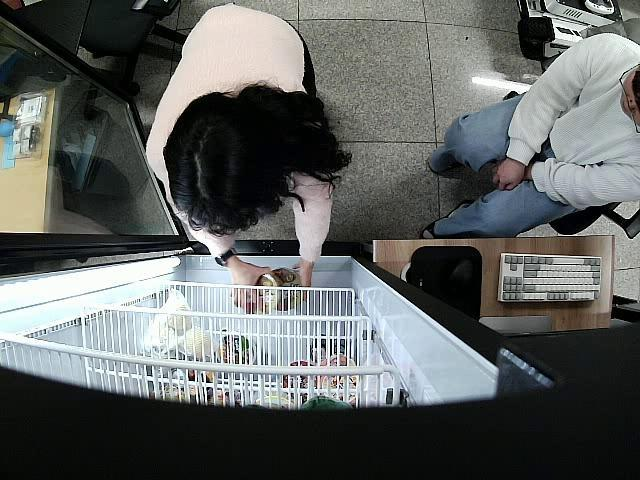03_chapagetti_L: (246, 274, 280, 316), (270, 270, 300, 314)
